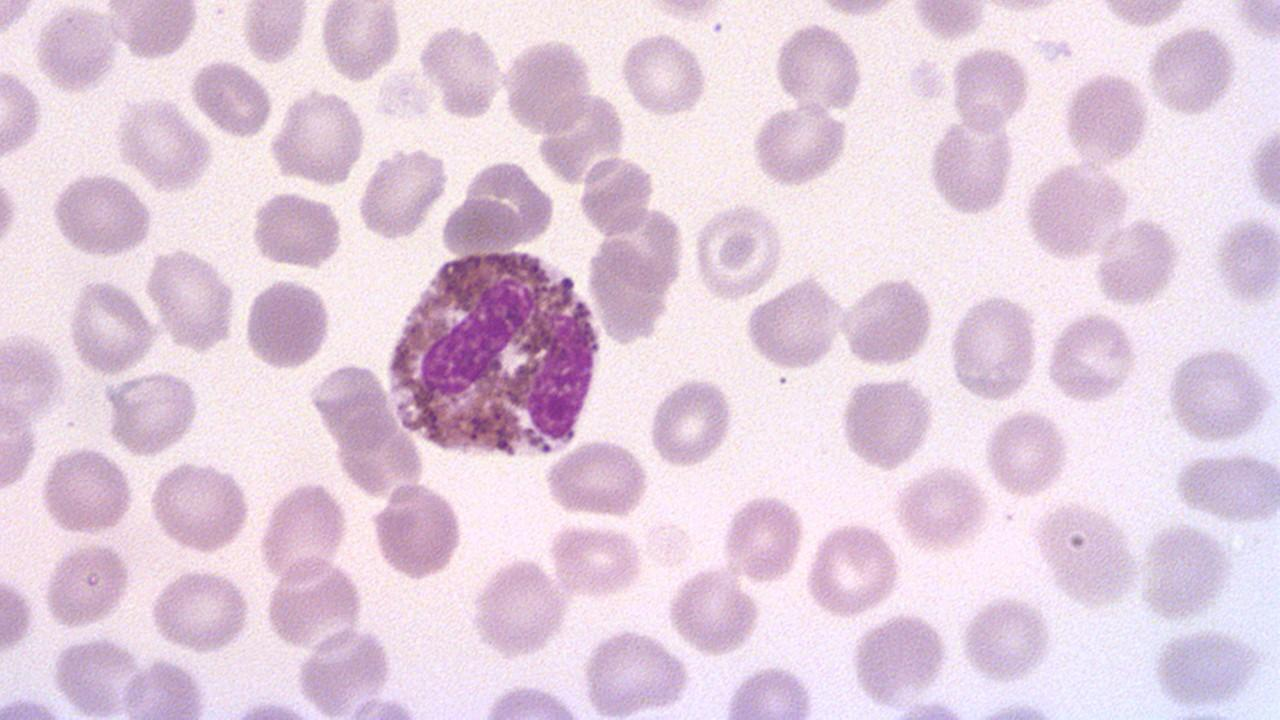Platelets: (906, 55, 950, 106)
RBC: (1034, 497, 1140, 610), (1021, 160, 1129, 264), (1165, 345, 1277, 444), (1150, 624, 1272, 714), (467, 557, 571, 659), (1133, 521, 1237, 623), (848, 609, 950, 712), (948, 290, 1040, 403), (147, 459, 253, 557), (144, 246, 238, 354), (256, 478, 350, 586), (262, 554, 365, 652), (925, 109, 1015, 219), (690, 200, 787, 302), (802, 521, 904, 618), (742, 276, 844, 372), (271, 87, 367, 188), (838, 373, 934, 474), (370, 480, 466, 581), (580, 628, 692, 714), (840, 272, 936, 370), (47, 173, 154, 260), (147, 567, 253, 654), (241, 272, 333, 372), (958, 592, 1055, 686), (64, 277, 155, 377), (540, 436, 652, 517), (1045, 310, 1139, 406), (1060, 70, 1152, 168), (891, 464, 992, 553), (38, 446, 135, 538), (417, 21, 504, 122), (356, 146, 449, 240), (1146, 24, 1238, 119), (664, 566, 761, 656), (102, 371, 202, 457), (646, 374, 736, 469), (748, 104, 851, 187), (771, 20, 863, 112), (1091, 216, 1181, 310), (618, 29, 710, 120), (982, 408, 1073, 498), (42, 540, 130, 632), (1171, 449, 1279, 522), (247, 189, 345, 268), (720, 492, 806, 582), (33, 4, 118, 95), (948, 44, 1032, 136), (320, 0, 402, 82), (189, 57, 272, 138), (577, 153, 655, 239), (1212, 215, 1278, 308), (103, 0, 201, 62), (723, 662, 818, 719), (119, 656, 209, 716), (0, 65, 46, 159), (240, 1, 307, 65), (0, 401, 41, 492), (908, 0, 990, 44), (1089, 0, 1193, 30), (0, 569, 35, 655), (1247, 124, 1279, 218), (1229, 1, 1279, 42)
WBC: (0, 0, 867, 712), (533, 0, 1280, 720), (376, 240, 612, 463)
